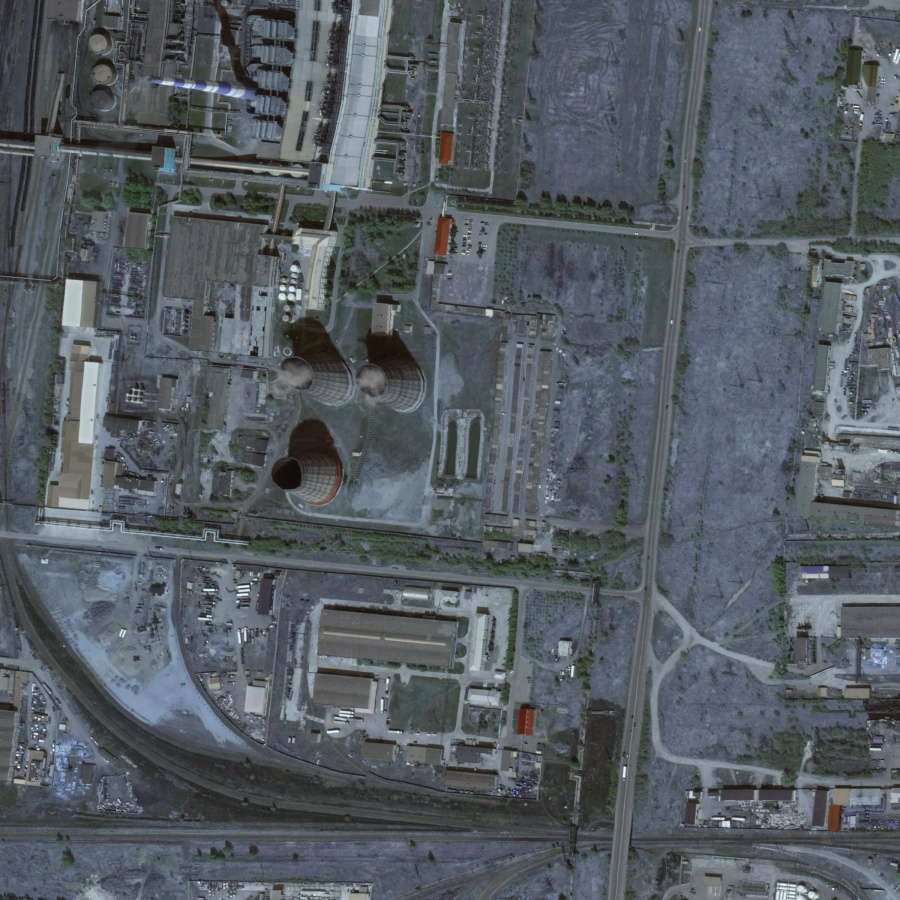PowerPlant: (263, 288, 452, 543)
